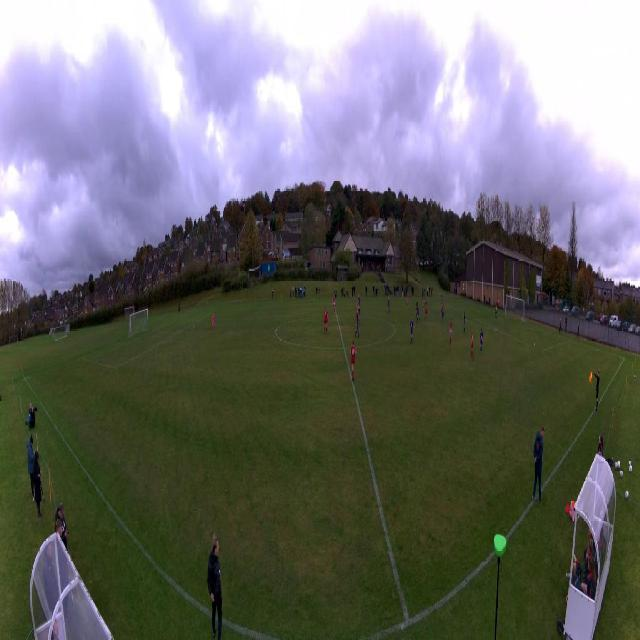ball: (533, 343, 535, 348)
player: (349, 340, 357, 380), (409, 318, 416, 343), (324, 308, 329, 334), (470, 330, 474, 359), (449, 319, 453, 345), (355, 312, 359, 338), (355, 303, 359, 327), (462, 313, 466, 334), (417, 303, 421, 324), (424, 302, 428, 321), (332, 295, 336, 314), (387, 296, 391, 315), (416, 298, 419, 323), (480, 329, 483, 353), (441, 309, 445, 324), (212, 314, 215, 334), (358, 295, 361, 315), (406, 293, 409, 309), (495, 304, 498, 320), (422, 296, 425, 311), (441, 299, 444, 311), (442, 296, 445, 306)
